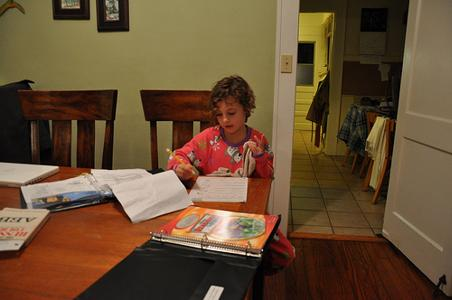person: (166, 76, 296, 271)
